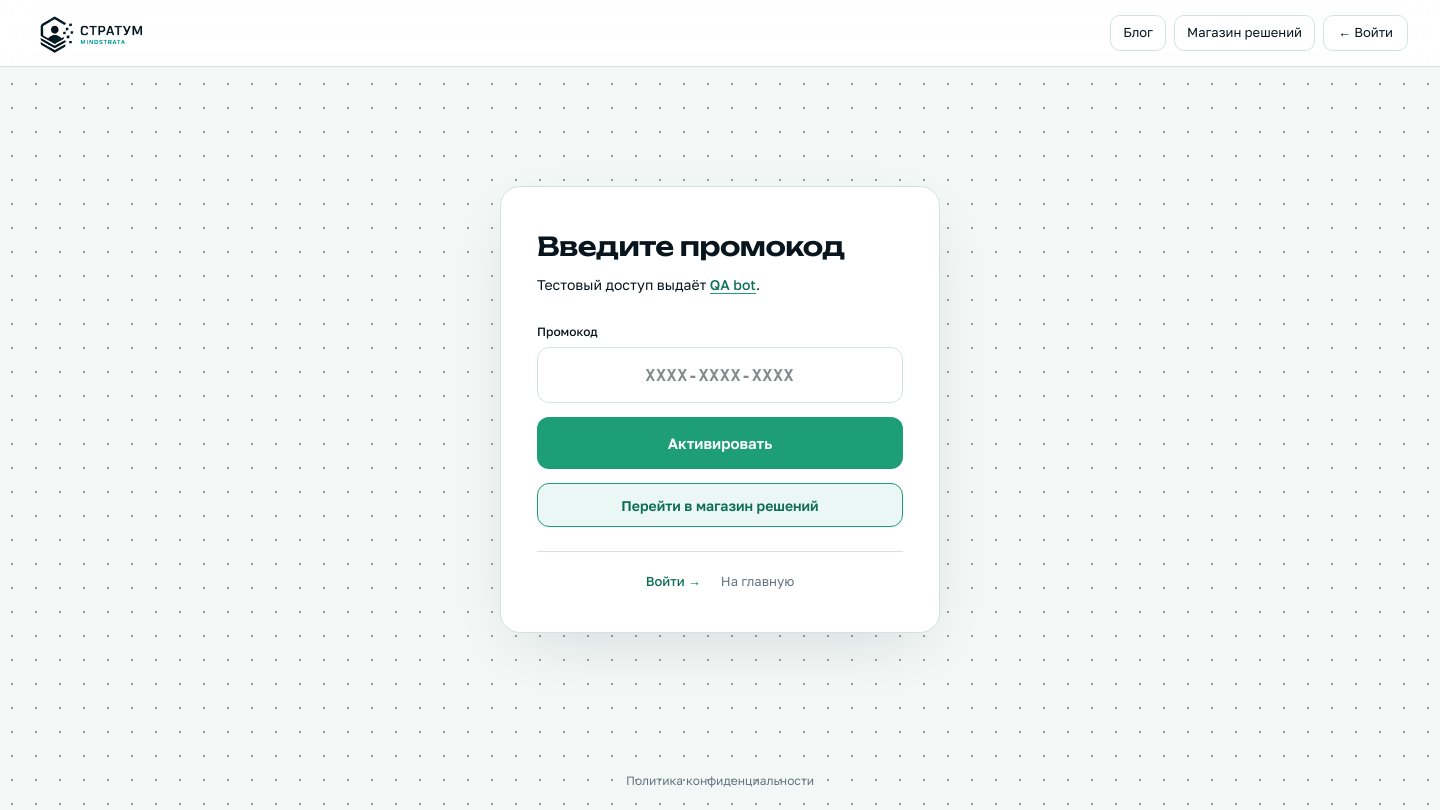
Test: AccessPage P0 › prevents duplicate activation submit while request is pending
Type "dup-123" into the field with placeholder "XXXX-XXXX-XXXX".
click(720, 375); type("dup-123")  # box 537,347 -> 903,403
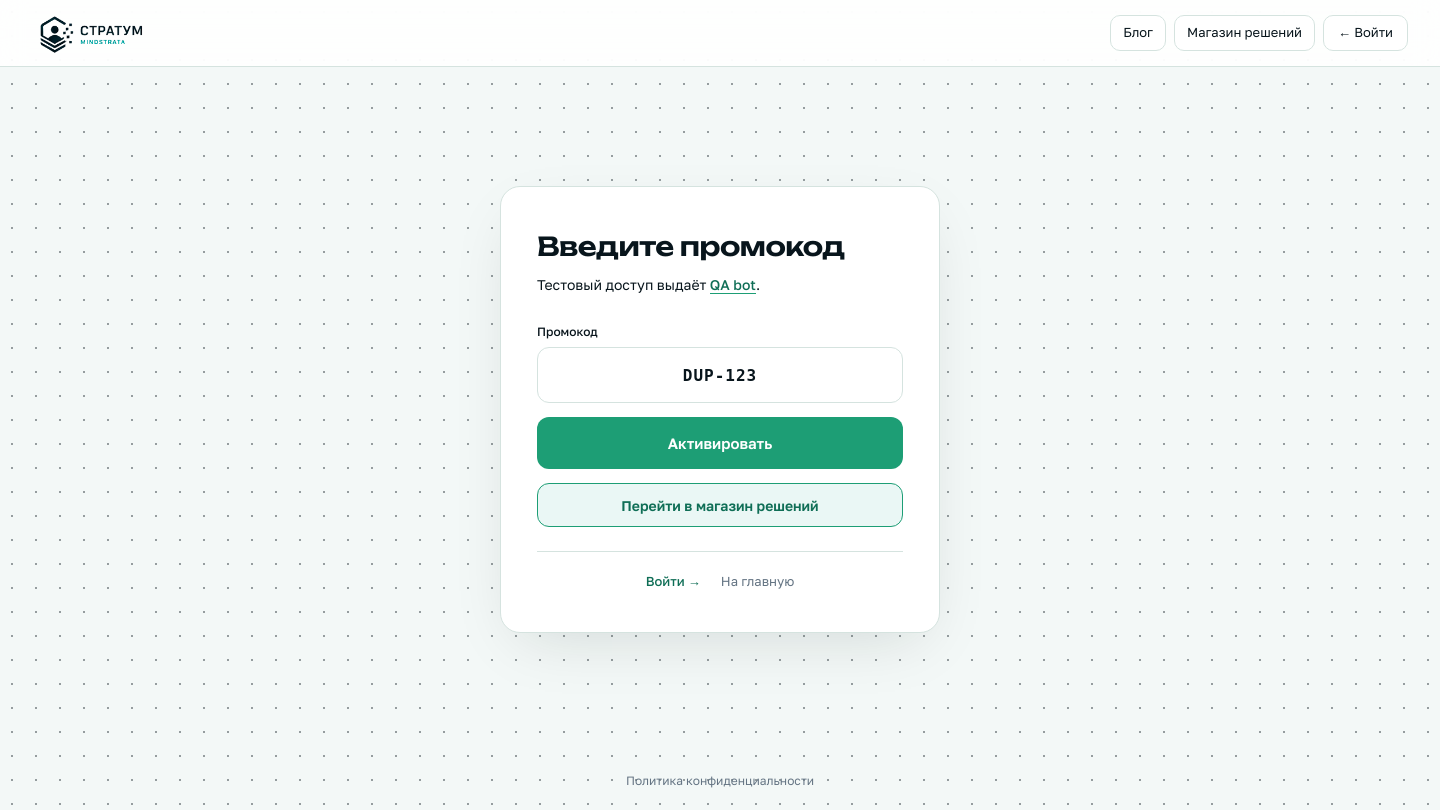
Click the button "Активировать".
click(720, 443)  # box 537,417 -> 903,469
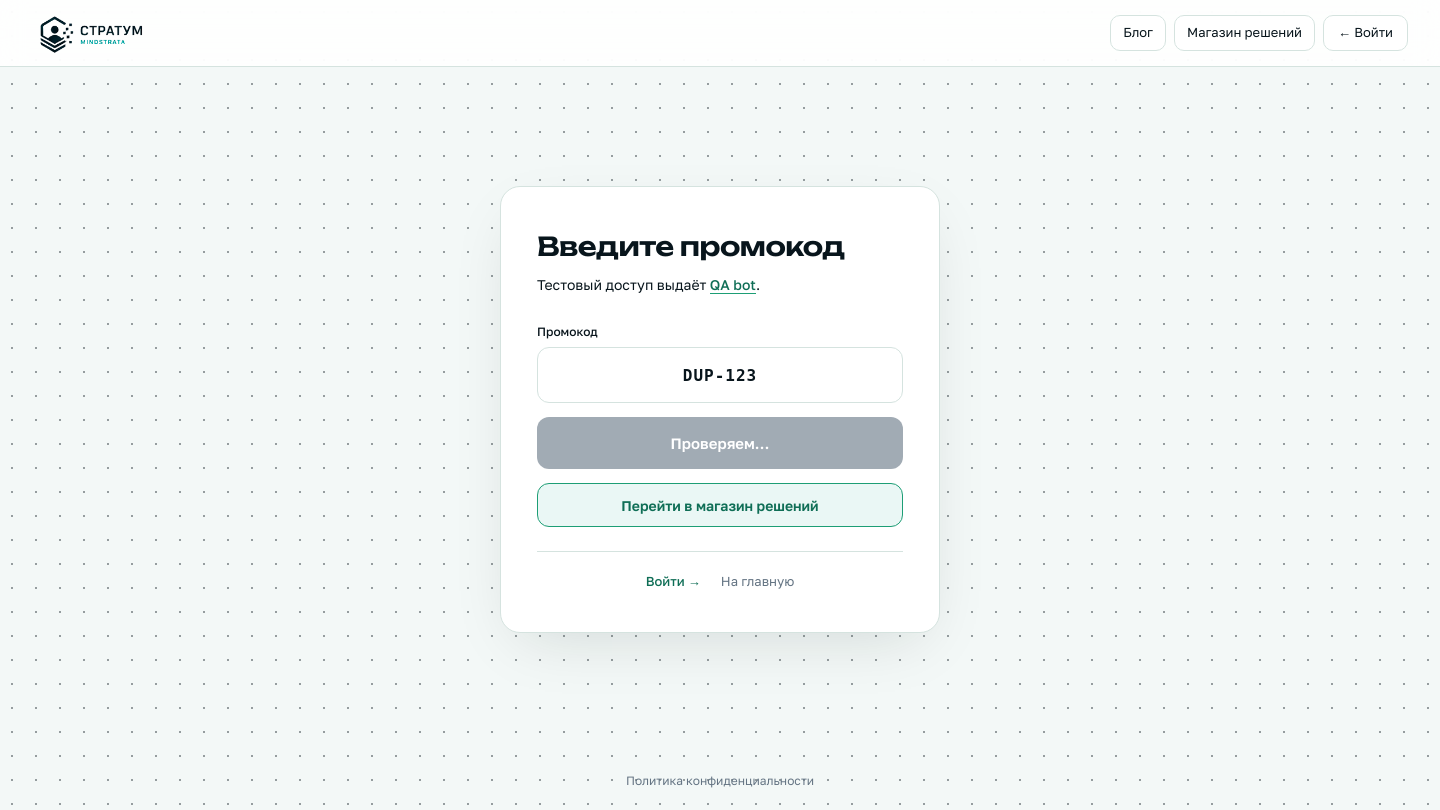
Click the button "Проверяем…".
click(720, 443)  # box 537,417 -> 903,469
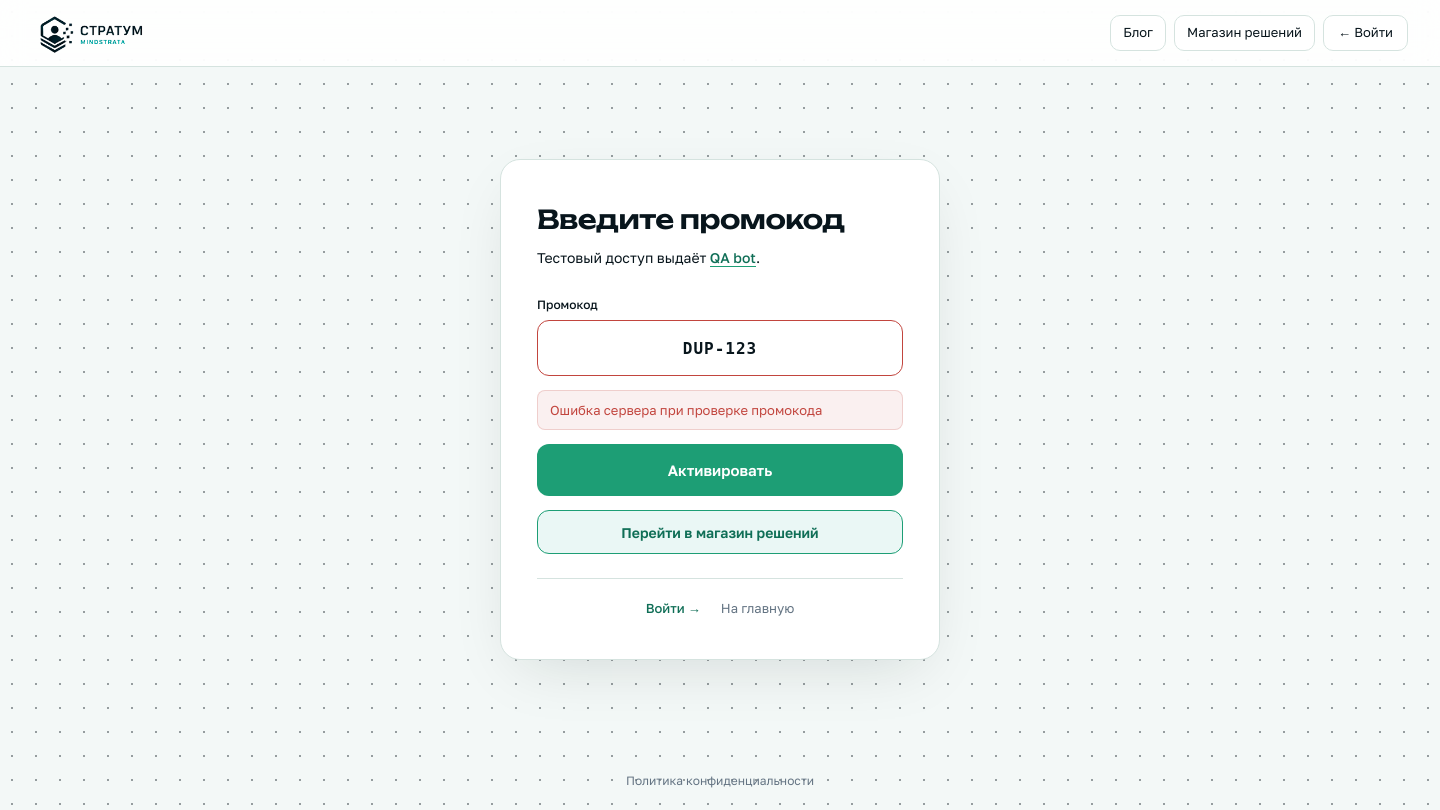
Check: the text "Ошибка сервера при проверке промокода" is shown, box 537,390 -> 903,430
